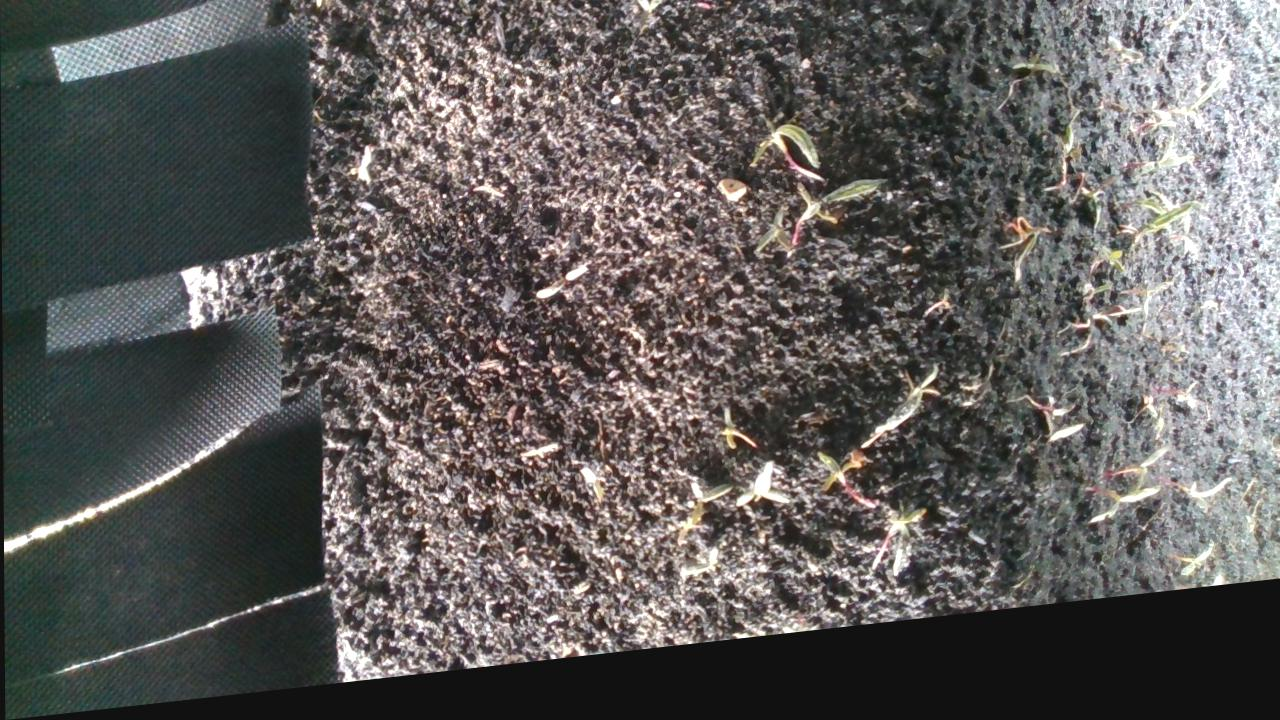weed: (1078, 478, 1158, 553), (539, 269, 592, 327), (709, 421, 763, 472)
